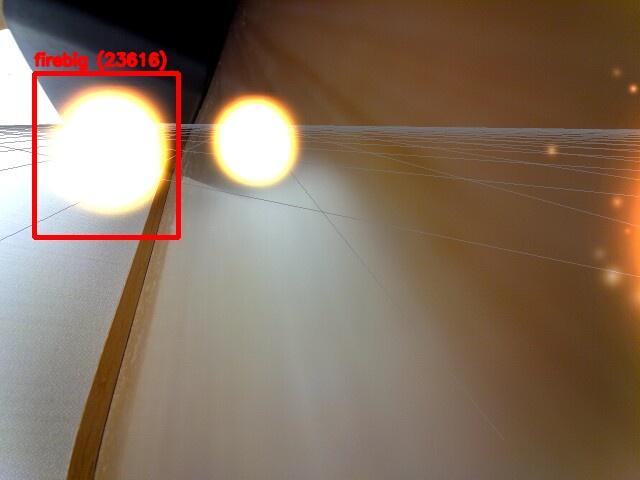firebig: (34, 73, 178, 237)
